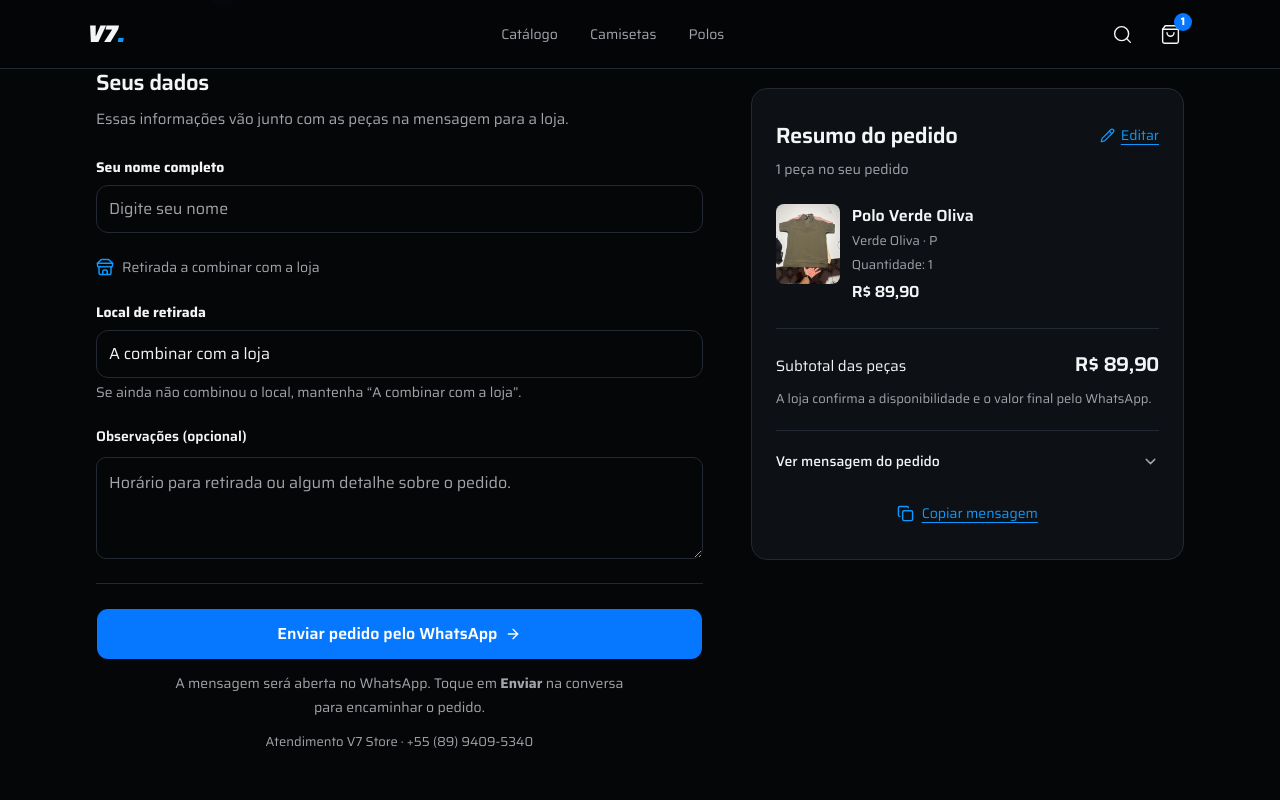
Test: jornada de compra › copia a mensagem completa após validar os dados
(page scrolled)
Step 1. Click the button "Copiar mensagem" → {"x": 967, "y": 513}, box [776,491,1159,535]
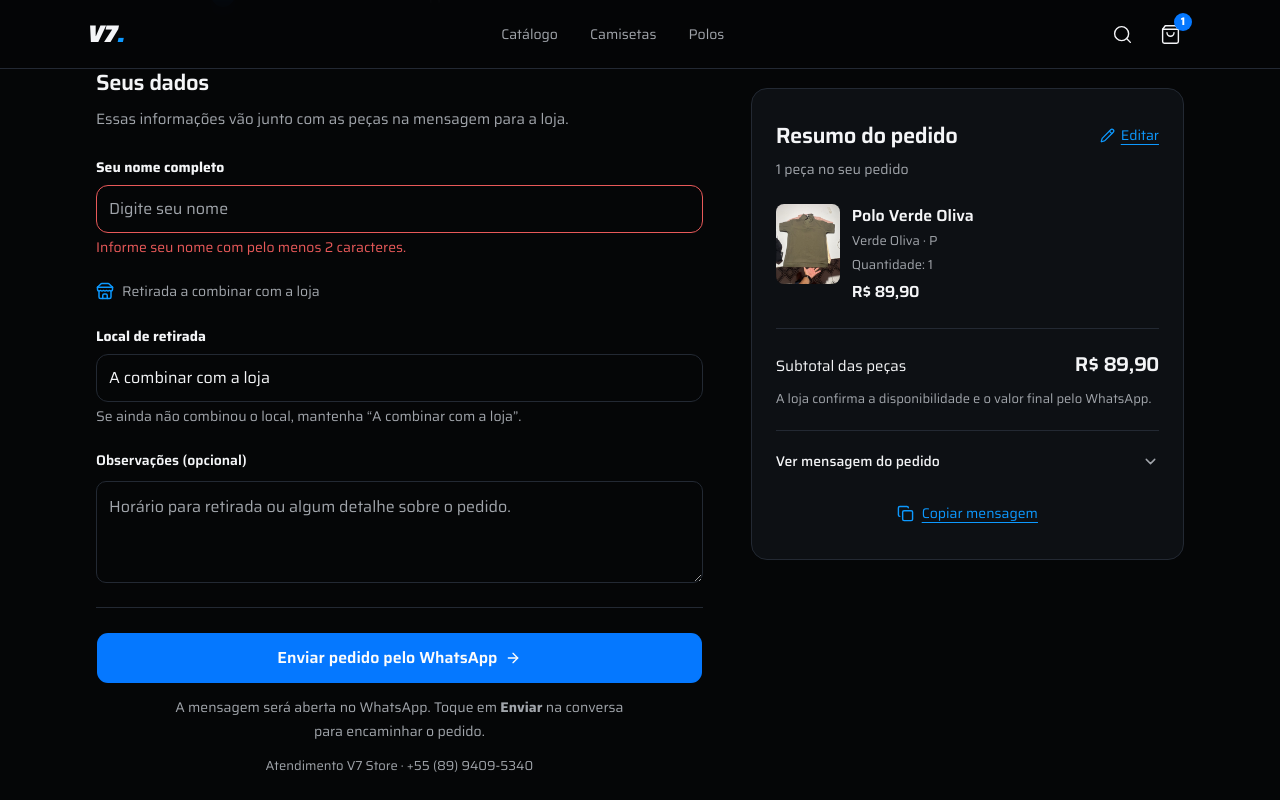
Result: the text "Informe seu nome com pelo menos 2 caracteres." is shown at [96,236,406,258]
Step 2. Type "Cliente Teste" into the field labelled "Seu nome completo" → {"x": 399, "y": 209}, box [96,185,703,233]
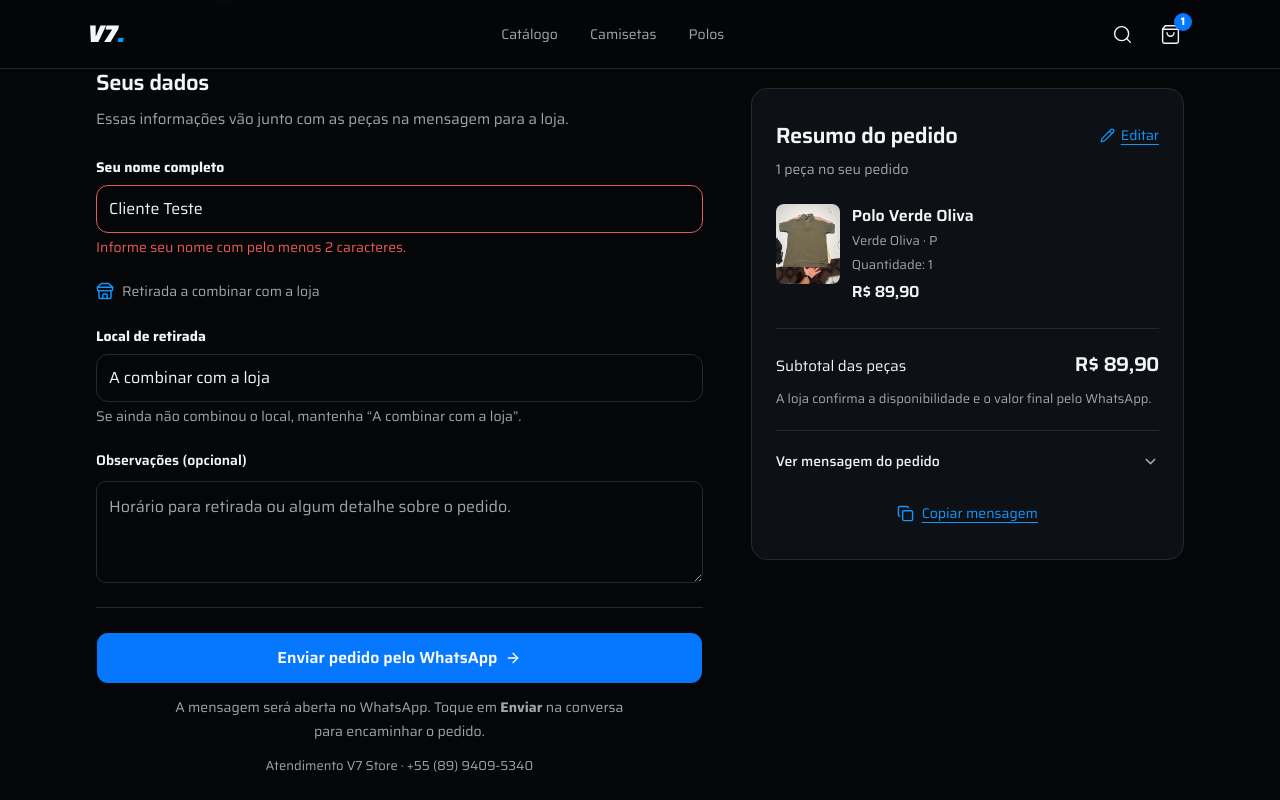
Step 3. Click the button "Copiar mensagem" → {"x": 967, "y": 513}, box [776,491,1159,535]
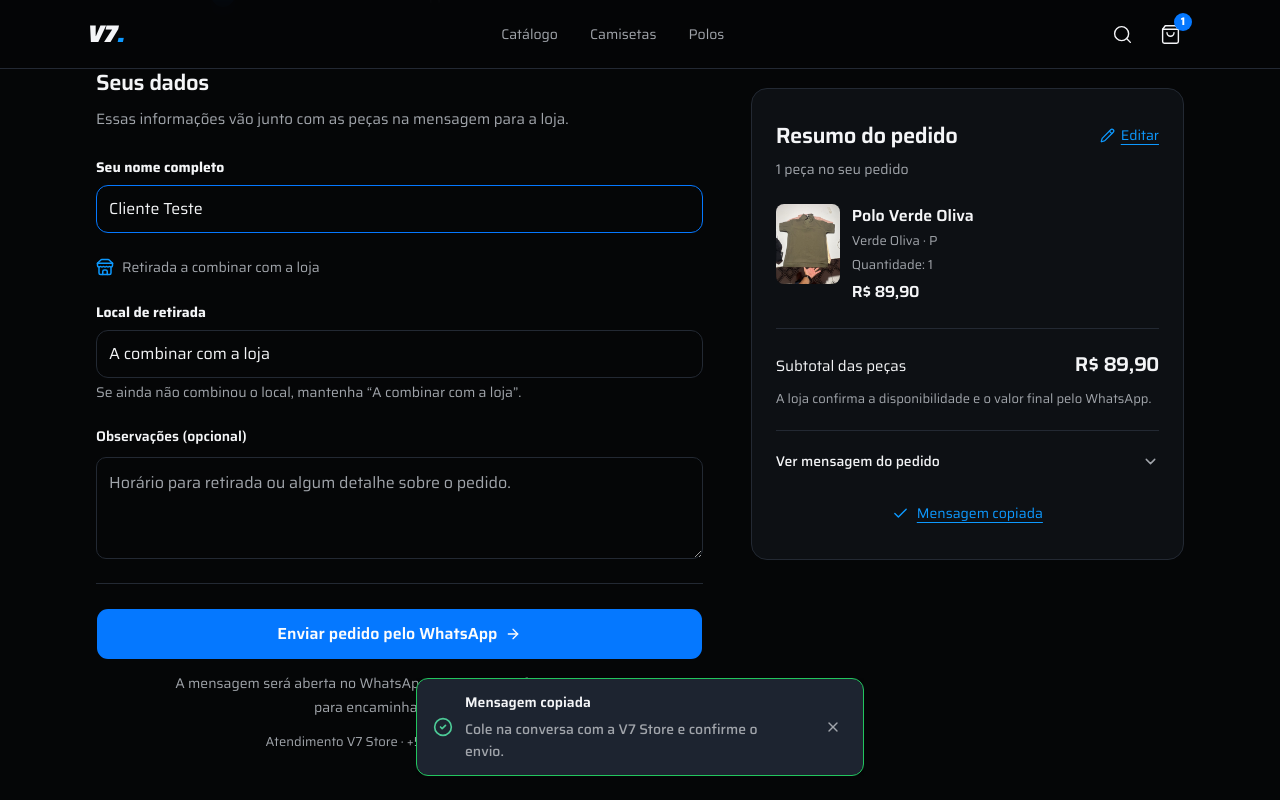
Result: the button "Mensagem copiada" is shown at [776,491,1159,535]
